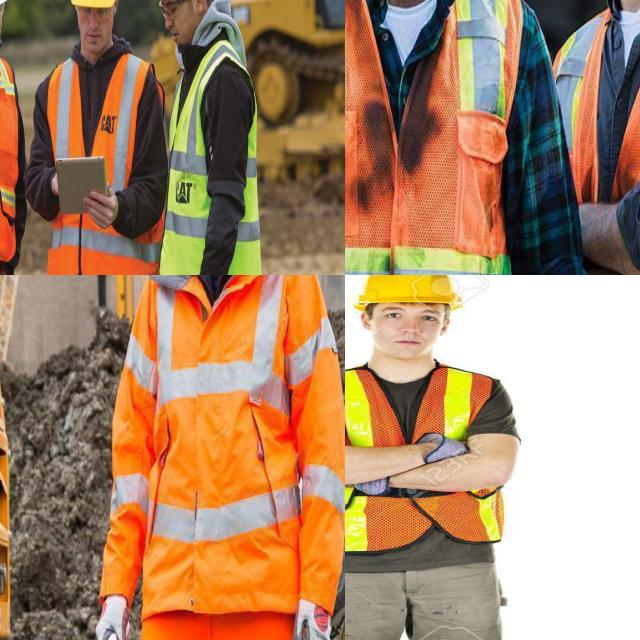face_nomask: (370, 301, 441, 355), (71, 0, 115, 58), (152, 0, 194, 54)
glasses: (156, 0, 187, 22), (76, 0, 110, 20)
hand_glove: (79, 575, 142, 640), (290, 594, 343, 640), (182, 228, 229, 275)
hand_noglove: (75, 178, 125, 238), (50, 169, 68, 203)
head_helmet: (356, 275, 466, 309)
person: (108, 275, 335, 640), (345, 275, 570, 640), (345, 0, 572, 275), (42, 0, 170, 275), (154, 0, 255, 275), (553, 0, 640, 275)
vest: (126, 275, 345, 540), (345, 0, 521, 275), (345, 367, 526, 536), (45, 47, 166, 275), (551, 0, 640, 275), (160, 46, 266, 275), (0, 40, 25, 260)
